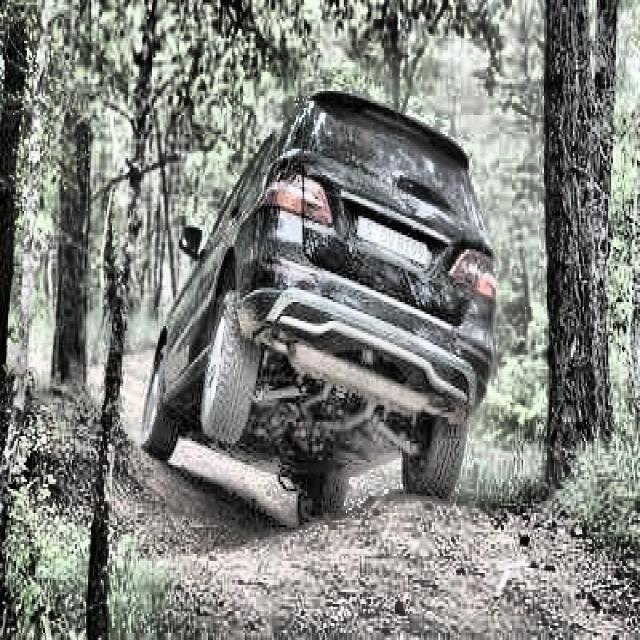license_plate: (358, 218, 428, 269)
